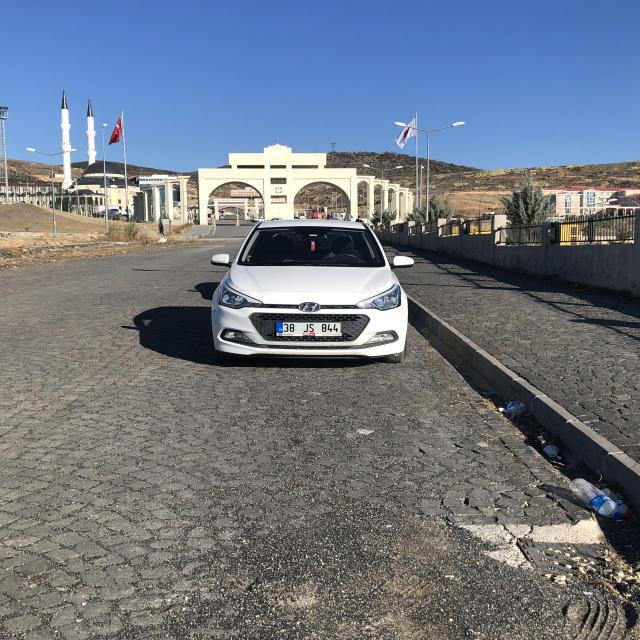license_plate: (277, 322, 341, 333)
